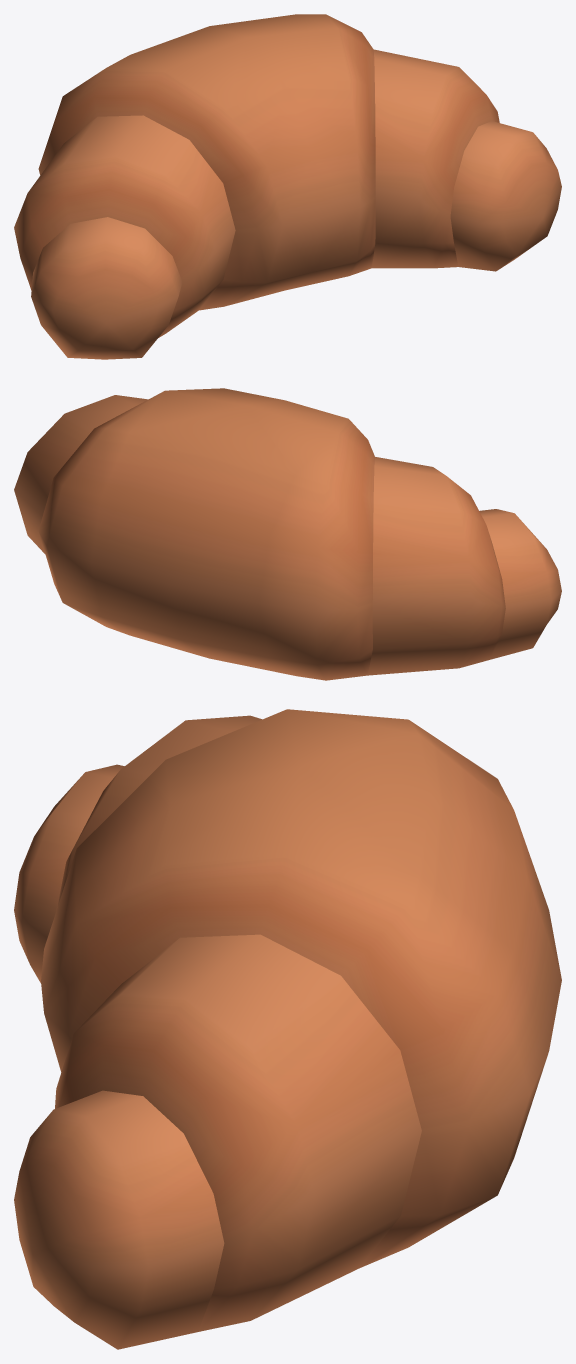
File: Croissant-transformed.glb
3 views of the same model, one above another, from view 1: azimuth 30°, elevation 25°; view 2: azimuth 150°, elevation 25°; view 3: azimuth 270°, elevation 25° (orthographic). The views are drawn at different scales.
Parts seen in each view (by area): view 1: croissant; view 2: croissant; view 3: croissant.
Boxes of the visible parts, left/top/right/bottom form: croissant: left=14, top=14, right=561, bottom=359; croissant: left=14, top=388, right=561, bottom=680; croissant: left=14, top=709, right=561, bottom=1349.
Bounding box in the file's own units: 0.7365 × 0.3073 × 0.3893.
1 material, 1 textured.
